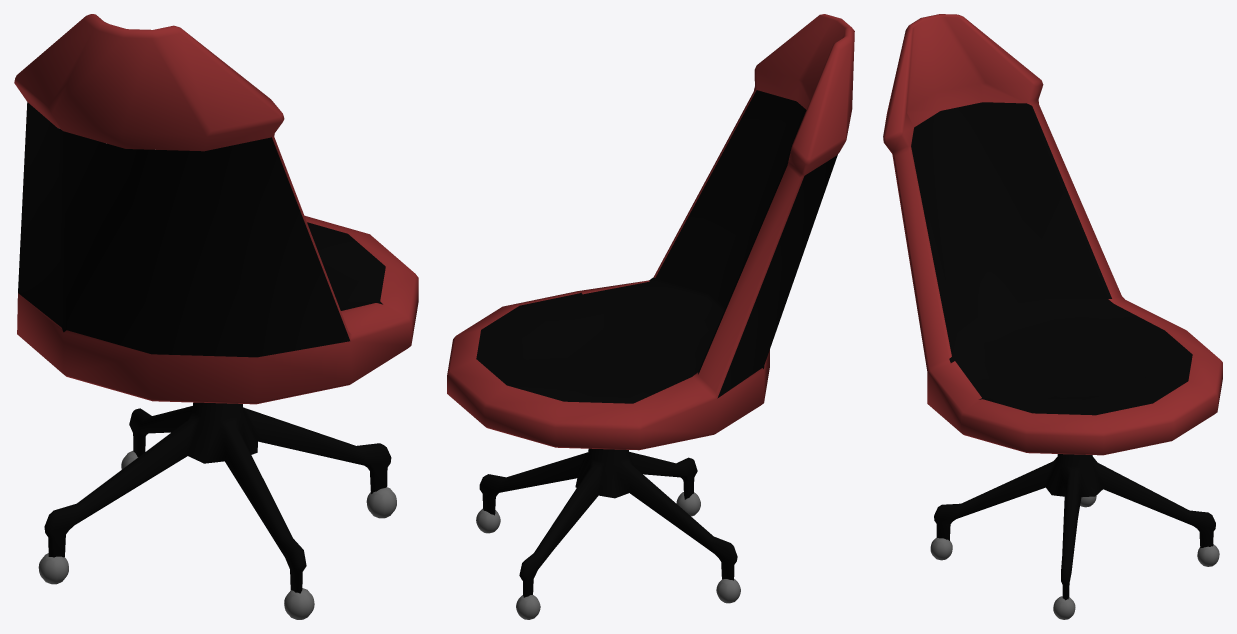
The model's file is chair-transformed.glb.
3 views of the same model, side by side, from view 1: azimuth 30°, elevation 25°; view 2: azimuth 150°, elevation 25°; view 3: azimuth 270°, elevation 25° (orthographic). The views are drawn at different scales.
Parts seen in each view (by area): view 1: chair; view 2: chair; view 3: chair.
Part boxes in pixels (bbox=[...]): chair: bbox=[14, 14, 418, 619]; chair: bbox=[447, 14, 854, 619]; chair: bbox=[883, 14, 1222, 619].
Bounding box in the file's own units: 1.57 × 2.38 × 1.55.
